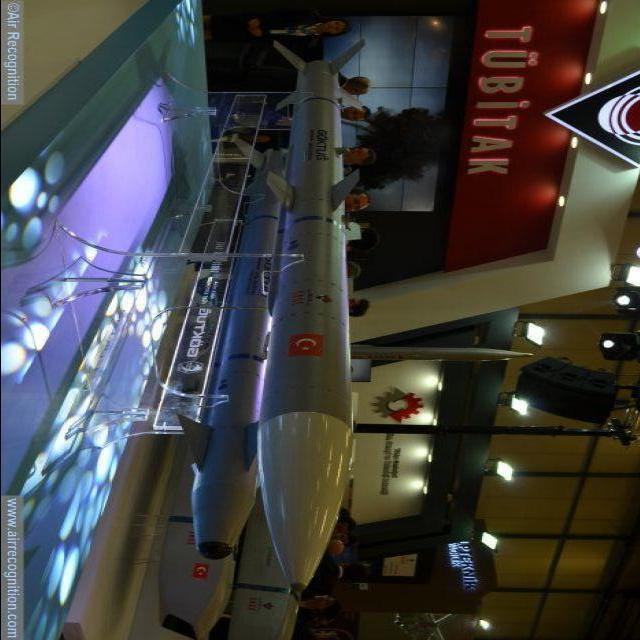Missile: (256, 47, 368, 605)
